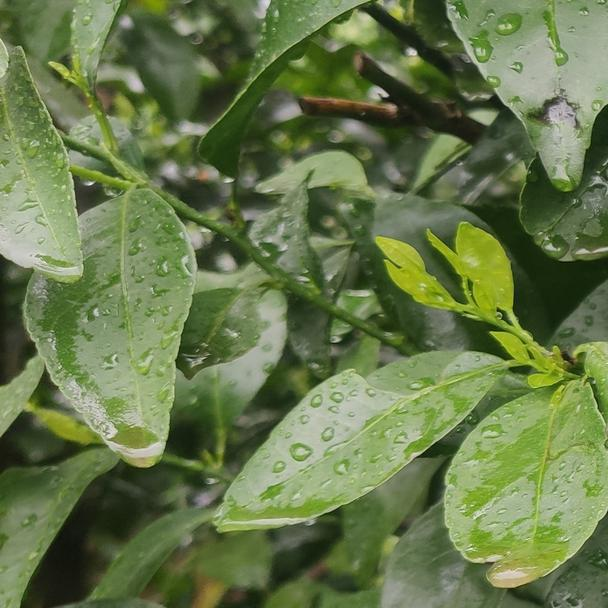shoot: (376, 230, 536, 344)
